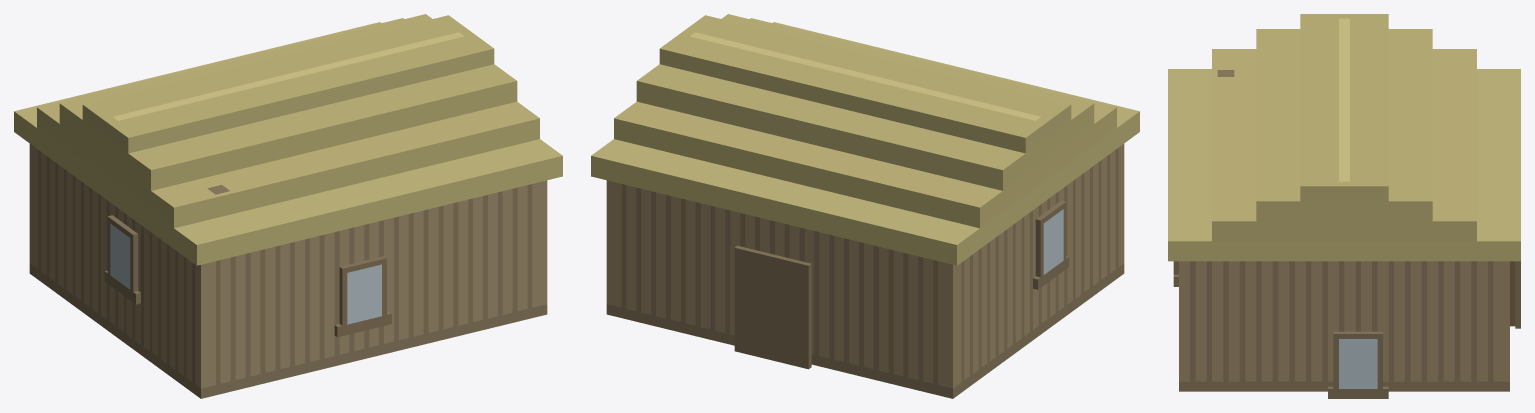
File: cabana_cazador_02.glb
The picture shows the model from 3 angles, left to right: view 1: azimuth 30°, elevation 25°; view 2: azimuth 150°, elevation 25°; view 3: azimuth 270°, elevation 25°; orthographic projection. The views are drawn at different scales.
Parts seen in each view (by area): view 1: cabana_cazador_02; view 2: cabana_cazador_02; view 3: cabana_cazador_02.
Boxes of the visible parts, x1,y1,x2,y2 form: cabana_cazador_02: (14, 14, 562, 398); cabana_cazador_02: (591, 14, 1139, 398); cabana_cazador_02: (1168, 14, 1520, 398).
Size of the model in its own units: 7.4 by 4.3 by 6.4.
